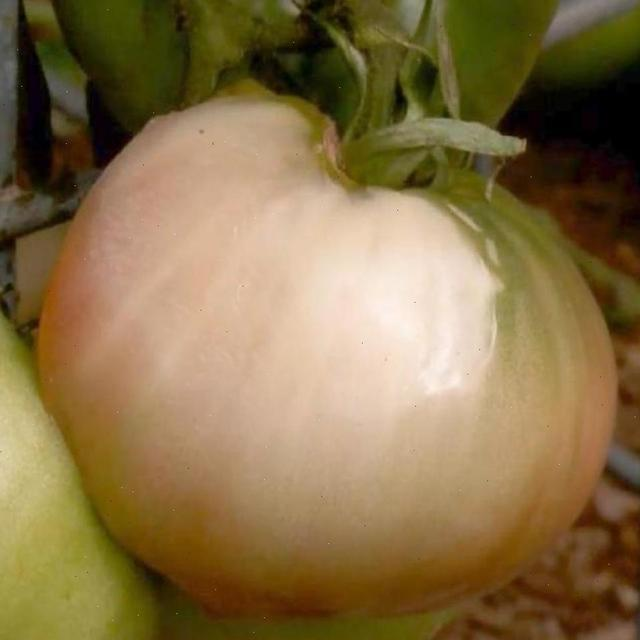Sunscald Fruit: (58, 65, 342, 285)
